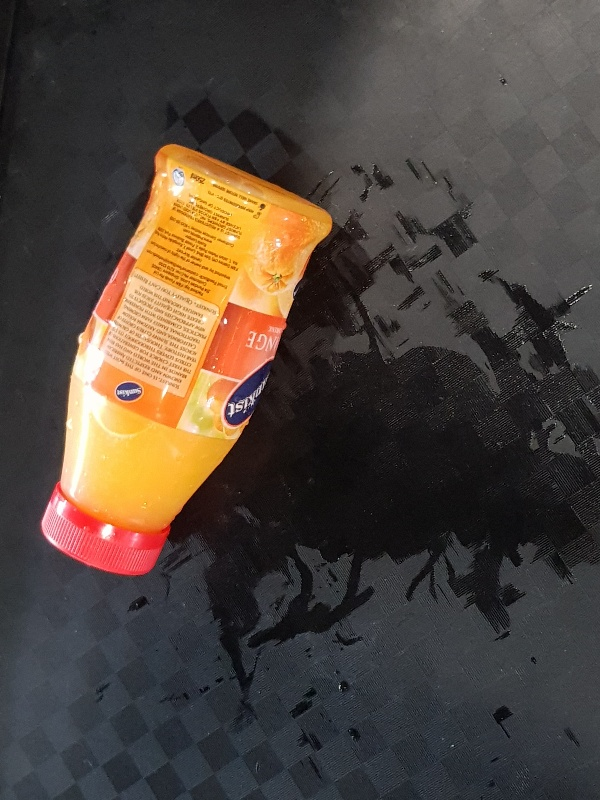Sunkist Orange Juice Drink: (39, 142, 334, 577)
